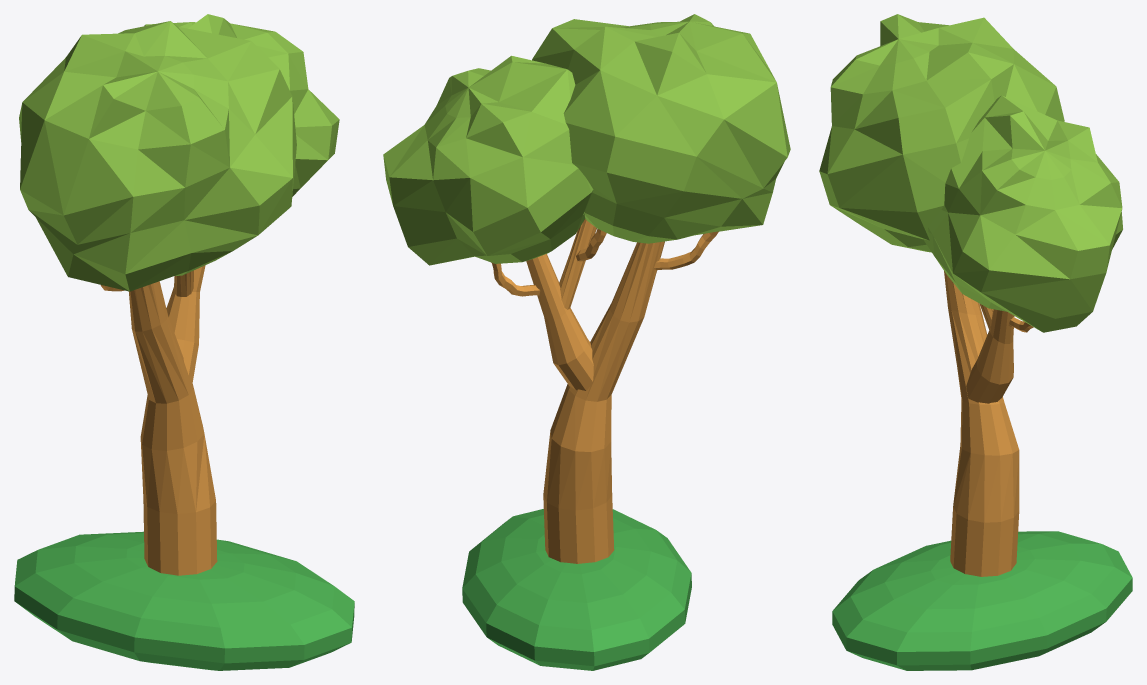
File: simple_tree.glb
The picture shows the model from 3 angles, left to right: view 1: azimuth 30°, elevation 25°; view 2: azimuth 150°, elevation 25°; view 3: azimuth 270°, elevation 25°; orthographic projection. The views are drawn at different scales.
Parts seen in each view (by area): view 1: group637853614, group55681193, group2079528281, group136233506, group339412937; view 2: group637853614, group136233506, group55681193, group2079528281, group339412937, group932203000, group161408949, group1991824997; view 3: group136233506, group637853614, group55681193, group2079528281, group339412937.
Part boxes in pixels (box(x1,y1,x2,y2)): group637853614: box(19, 21, 296, 291); group55681193: box(14, 531, 354, 670); group2079528281: box(128, 281, 217, 575); group136233506: box(144, 14, 339, 196); group339412937: box(166, 265, 205, 383); group637853614: box(532, 14, 790, 243); group136233506: box(383, 55, 593, 265); group55681193: box(462, 509, 691, 670); group2079528281: box(543, 241, 664, 563); group339412937: box(526, 254, 593, 390); group932203000: box(559, 219, 596, 309); group161408949: box(654, 231, 718, 270); group1991824997: box(491, 262, 540, 296); group136233506: box(923, 95, 1122, 332); group637853614: box(819, 14, 1064, 252); group55681193: box(832, 531, 1132, 670); group2079528281: box(944, 271, 1019, 576); group339412937: box(966, 309, 1014, 403).
Bounding box in the file's own units: 1 × 1.73 × 0.8496.
